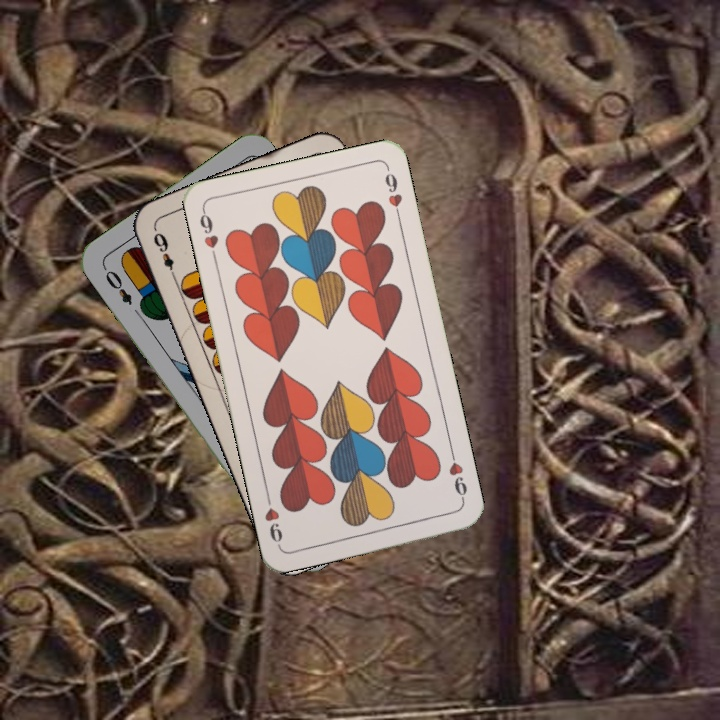E9: (149, 226, 179, 283)
EO: (99, 262, 135, 308)
H9: (195, 205, 221, 264), (444, 447, 470, 506)
